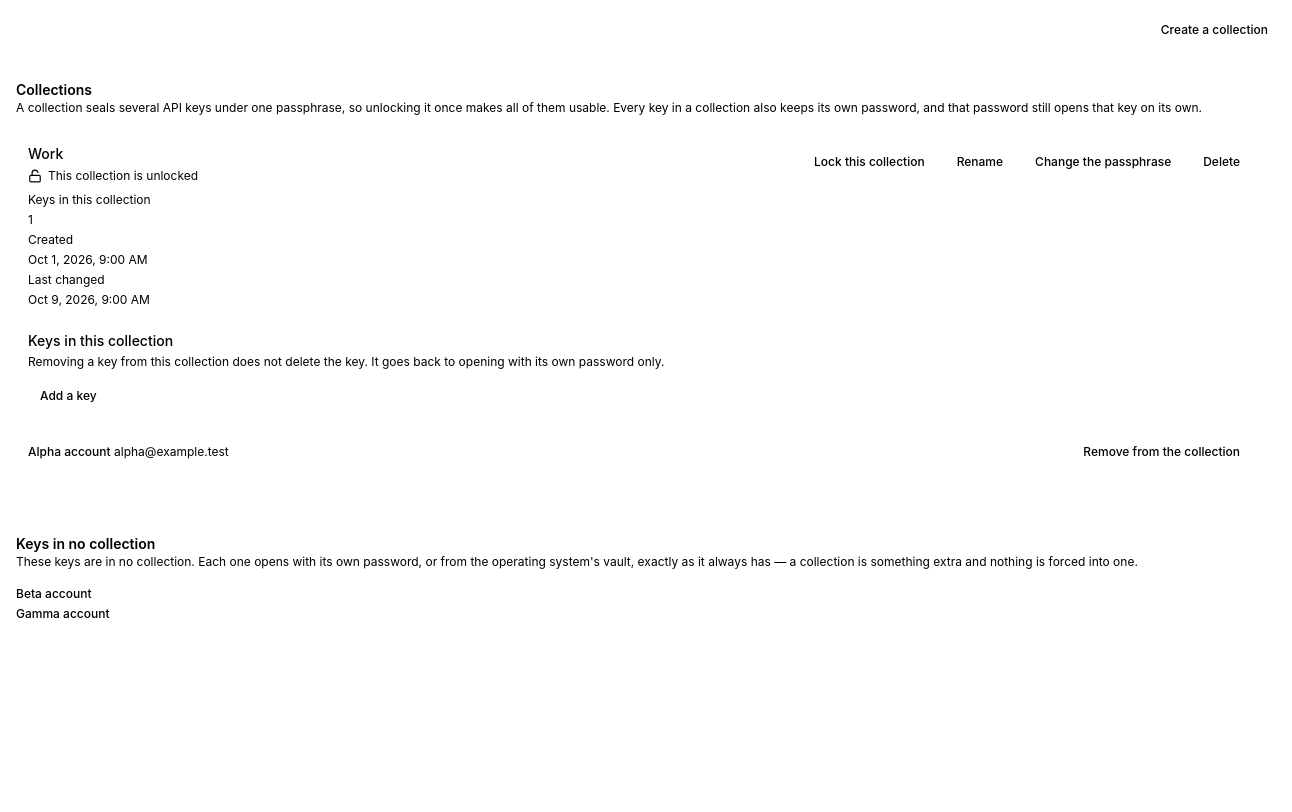
a locked refusal brings the screen back into step with the backend
Click the button with test id "collection-col-work-remove-key-alpha".
click(1162, 452)  # box [1071,434,1252,470]
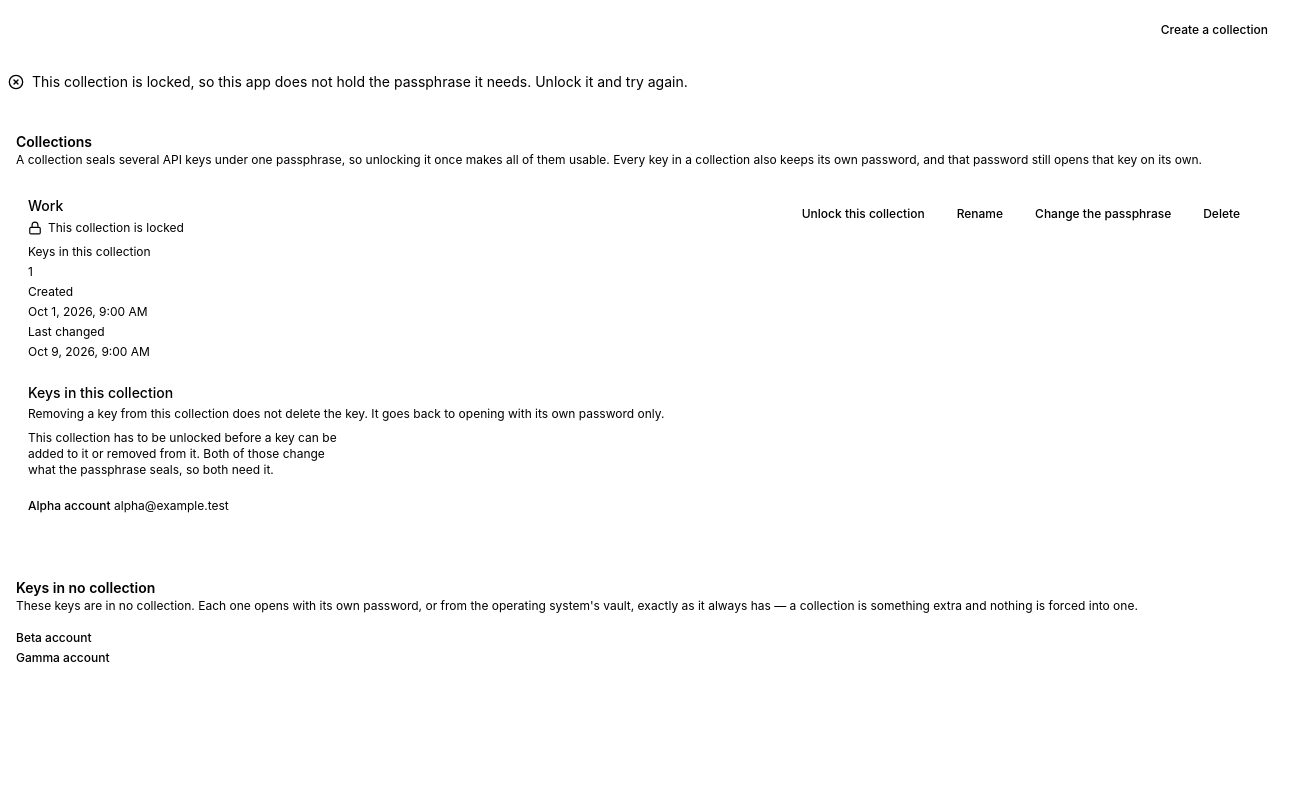
Result: the message with test id "collection-outcome" is shown at [8,73,688,90]
